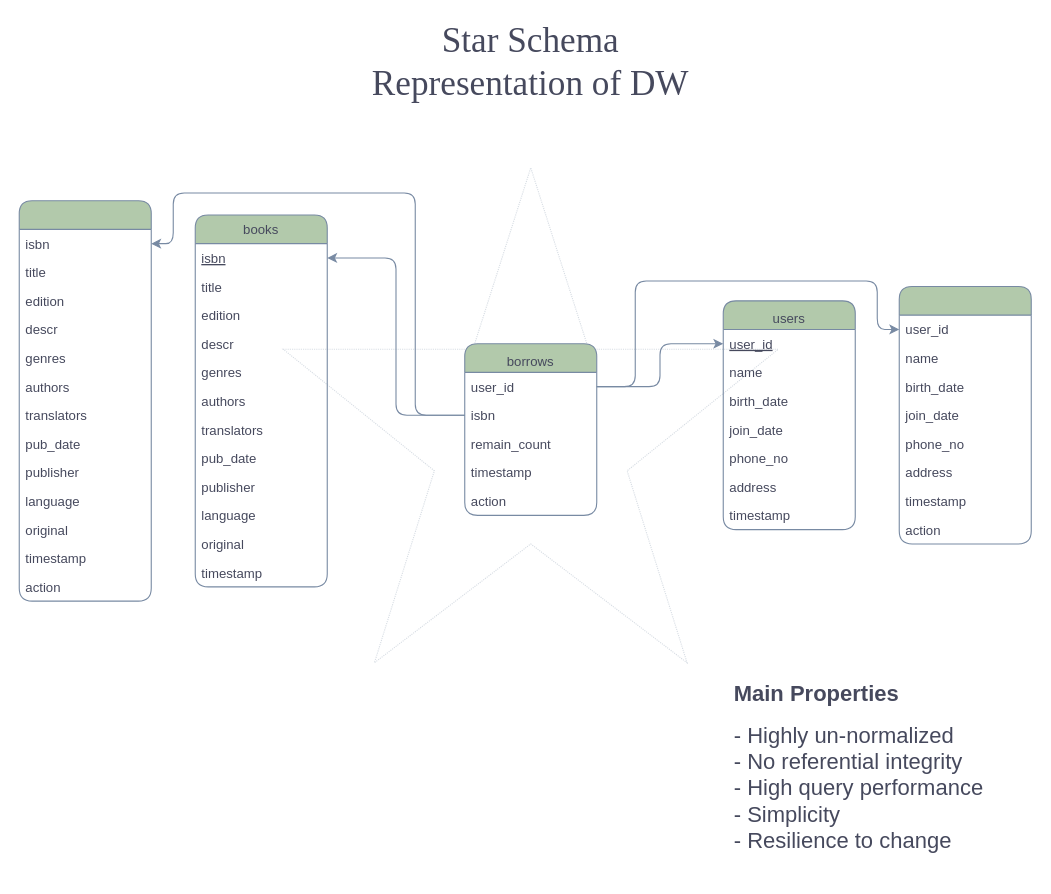
This 1051x894 diagram has some shape labels left out. The box of each missing label's shape, as (x1, y1, x2, y2) in pixels:
books_history: (18, 200, 151, 601)
users_history: (898, 285, 1031, 544)
